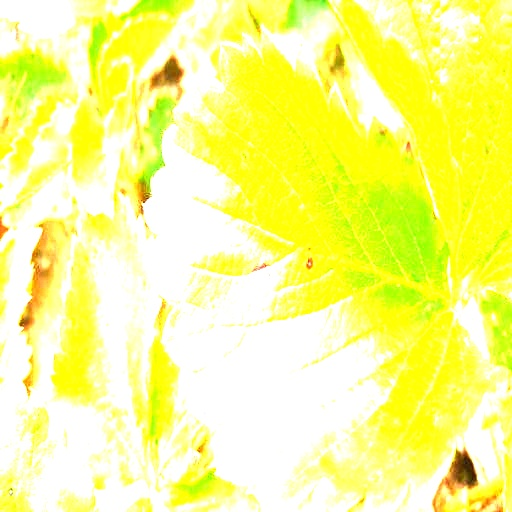Leaf Spot: (143, 25, 511, 511), (327, 0, 511, 285), (39, 185, 169, 489), (0, 378, 104, 511), (145, 340, 234, 491), (0, 228, 45, 375)
